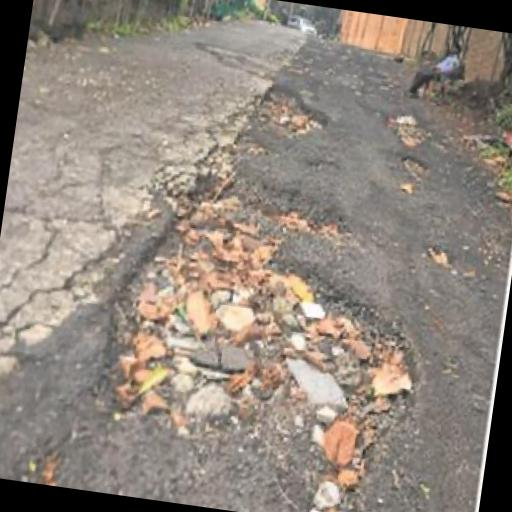pothole: (74, 154, 446, 512), (246, 82, 335, 142), (380, 106, 434, 146), (399, 150, 430, 178)
